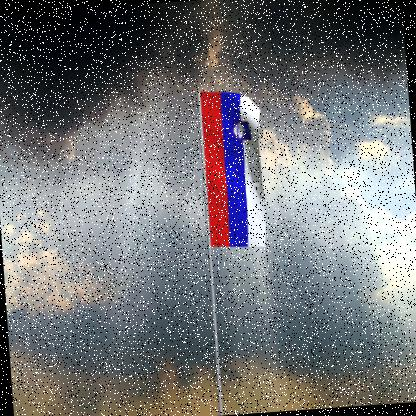si: (201, 90, 272, 253)
